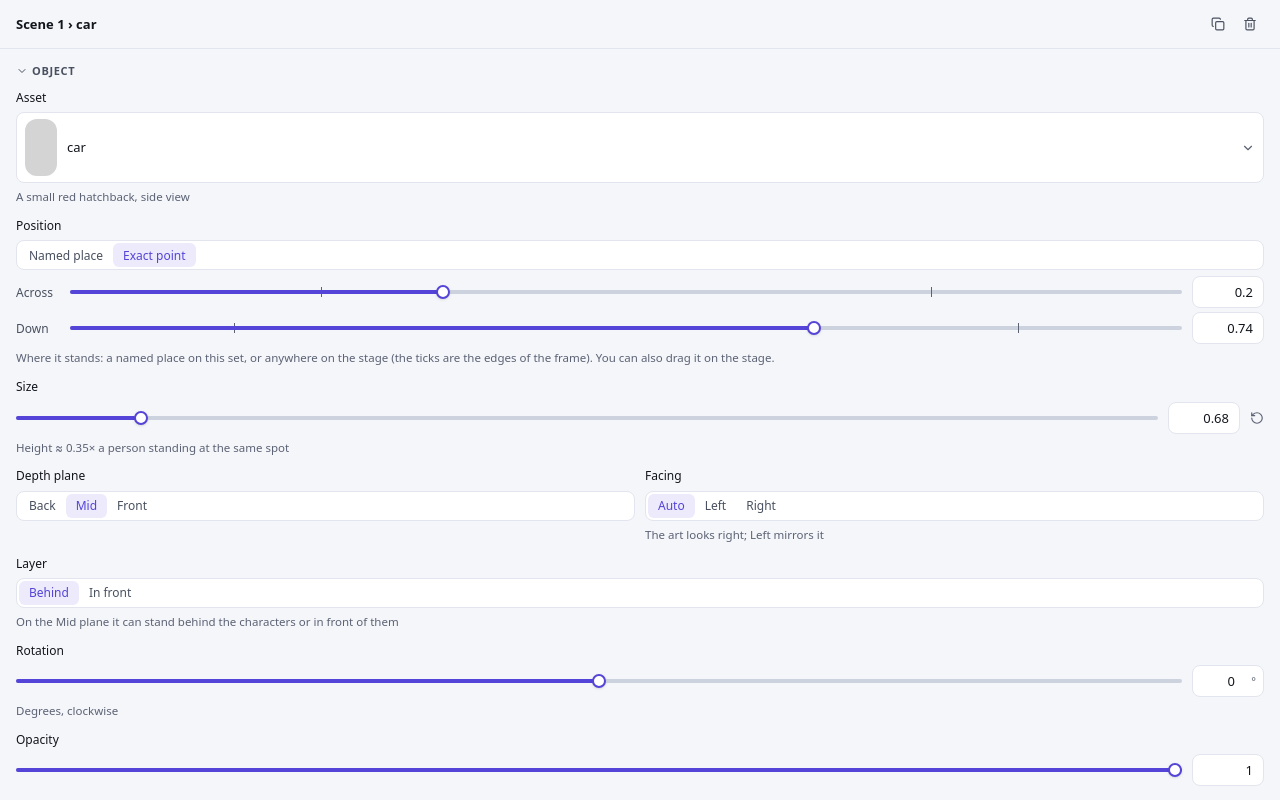
Scenario: the inspector of an object › sets the depth plane, and only lets the layer be chosen on the mid plane
Check: the radio button labelled "Behind" is enabled, box [19,581,79,605]
Step 1. Click the radio button labelled "In front" → (110, 593), box [79,581,141,605]
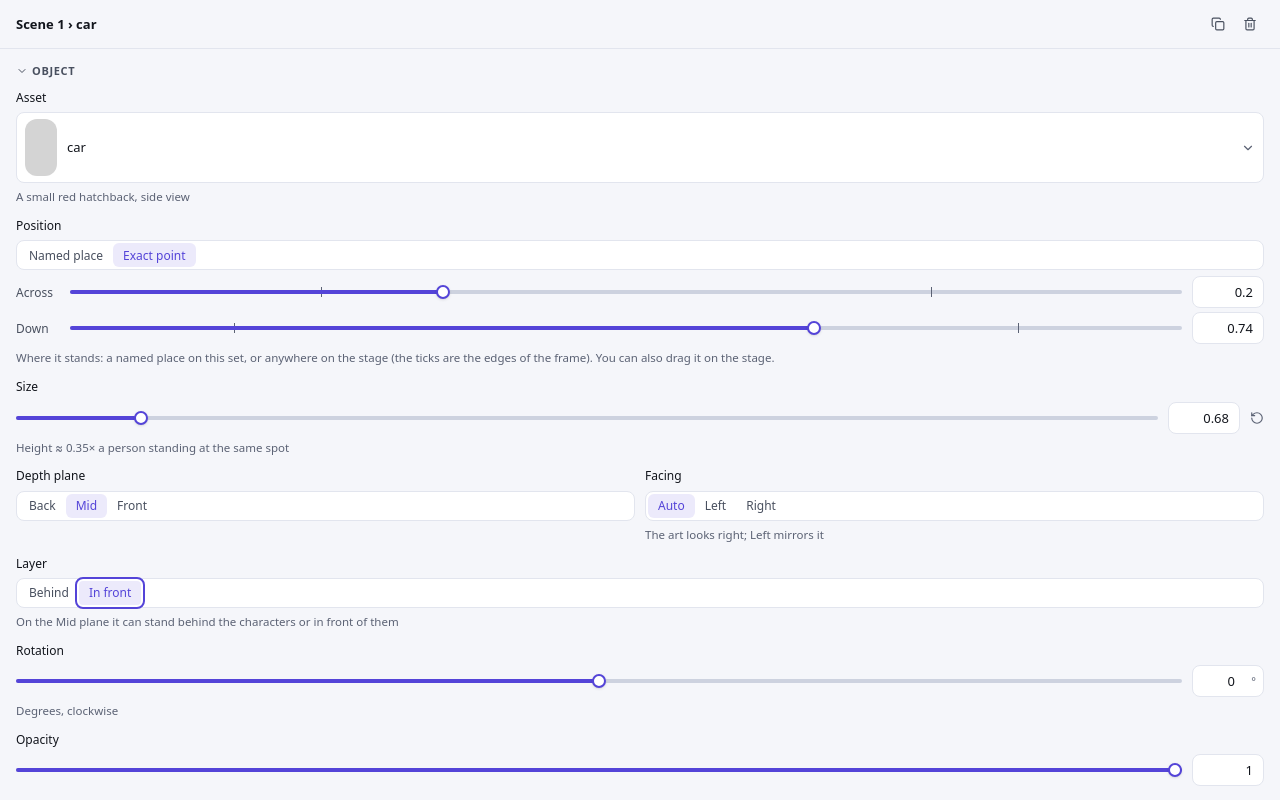
Step 2. Click the radio button labelled "Back" → (42, 506), box [19,494,66,518]
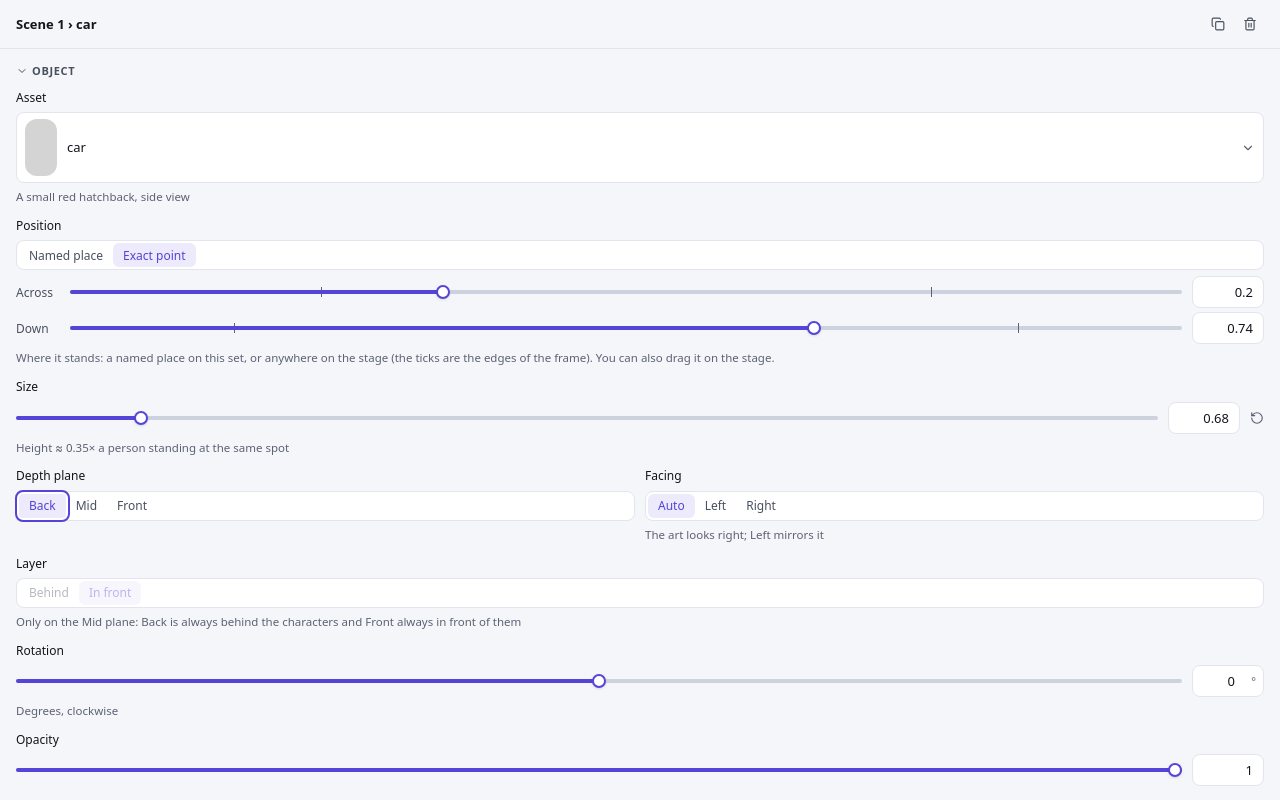
Check: the radio button labelled "Behind" is disabled, box [19,581,79,605]
Check: the radio button labelled "In front" is disabled, box [79,581,141,605]
